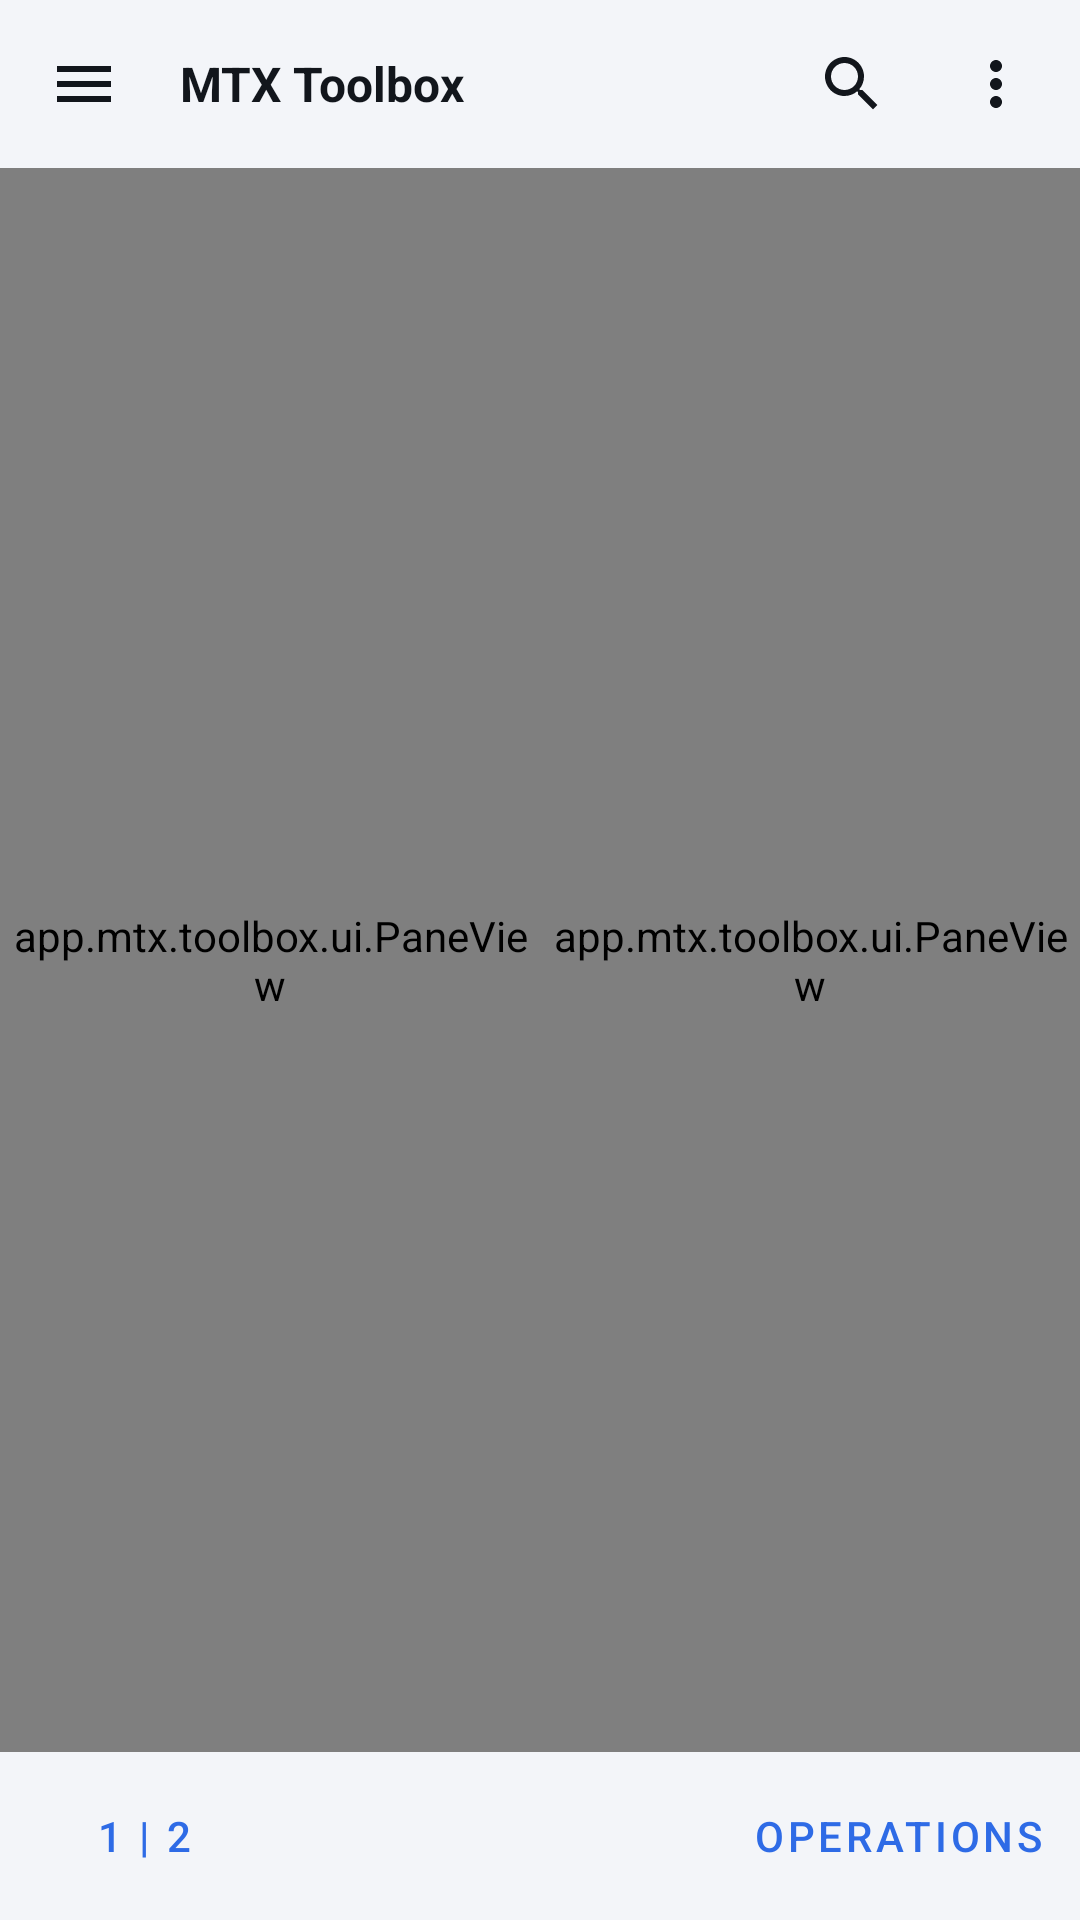

Named icons in this screenshot (1080px x 1920px) and their bounding boxes, bbox=(x1, y1, x2, y2):
Search: bbox=(825, 57, 877, 109)
